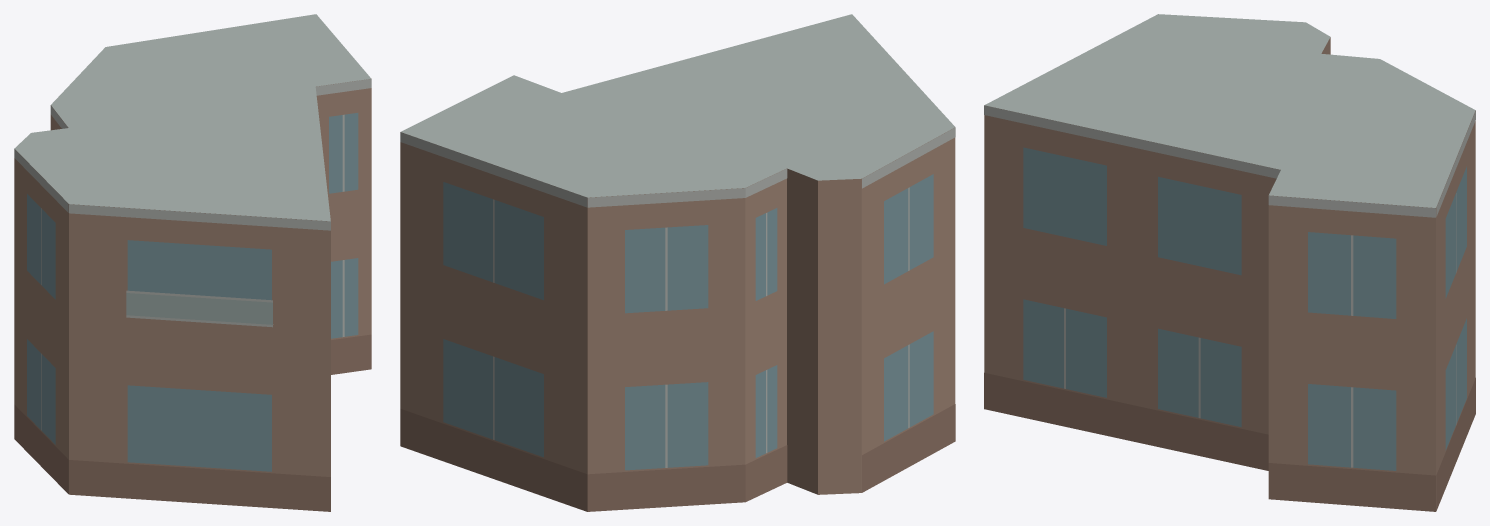
The model's file is survey-upis-32608748.glb.
3 views of the same model, side by side, from view 1: azimuth 30°, elevation 25°; view 2: azimuth 150°, elevation 25°; view 3: azimuth 270°, elevation 25° (orthographic). The views are drawn at different scales.
Parts seen in each view (by area): view 1: survey-upis-32608748.tmp; view 2: survey-upis-32608748.tmp; view 3: survey-upis-32608748.tmp.
Part boxes in pixels (x1,y1,x2,y2): survey-upis-32608748.tmp: (14, 14, 371, 511); survey-upis-32608748.tmp: (400, 14, 955, 511); survey-upis-32608748.tmp: (984, 14, 1475, 511).
Bounding box in the file's own units: 10.42 × 7.6 × 11.15.
